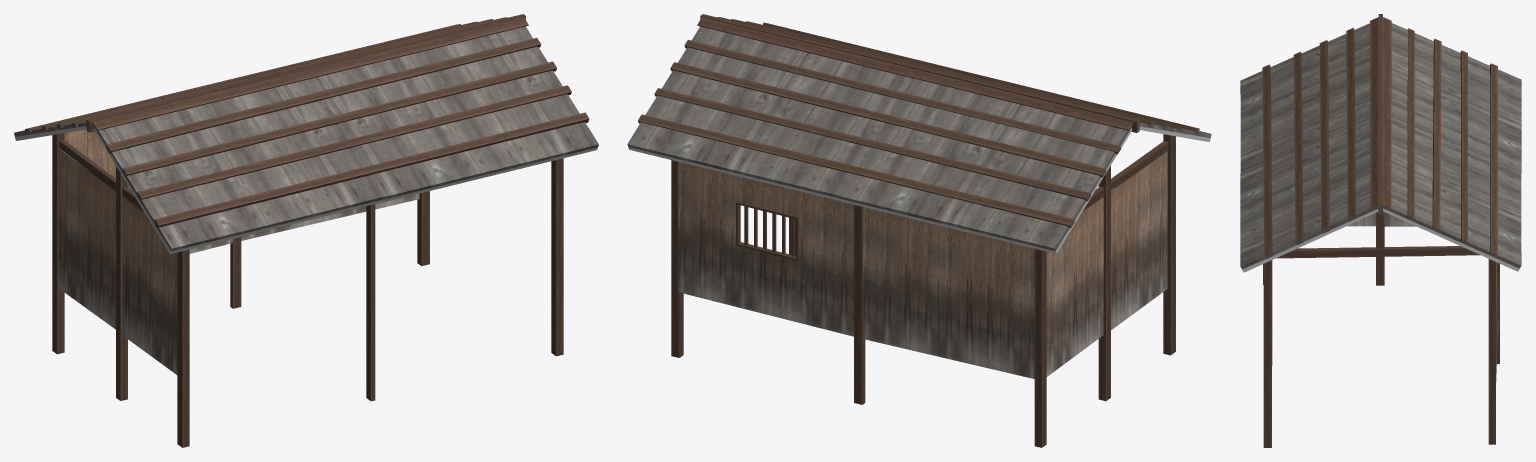
The model's file is jov_shed01a.fbx.
3 views of the same model, side by side, from view 1: azimuth 30°, elevation 25°; view 2: azimuth 150°, elevation 25°; view 3: azimuth 270°, elevation 25° (orthographic). The views are drawn at different scales.
Visible parts, largest first — view 1: jov_shed01a; view 2: jov_shed01a; view 3: jov_shed01a.
Part boxes in pixels (x1,y1,x2,y2): jov_shed01a: (14, 14, 598, 447); jov_shed01a: (627, 14, 1211, 447); jov_shed01a: (1240, 14, 1521, 447).
Size of the model in its own units: 816 by 511 by 511.
